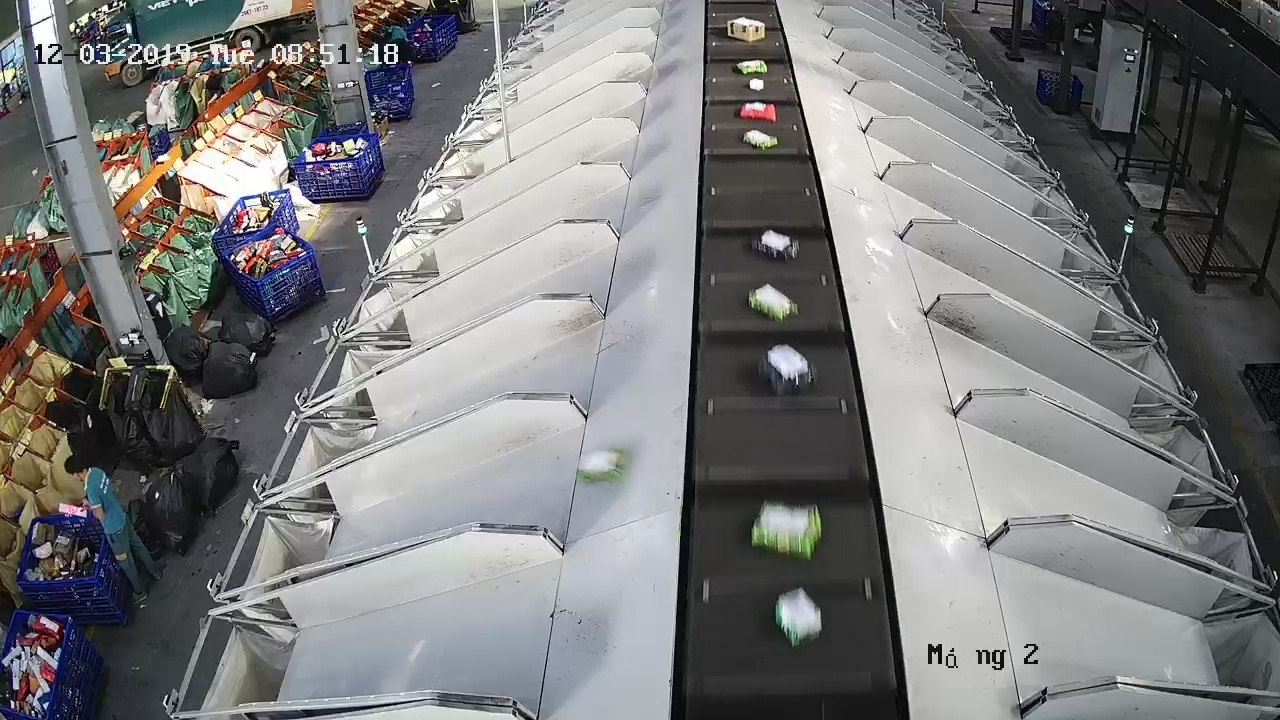parcel: (749, 498, 824, 562), (756, 341, 819, 399), (774, 585, 825, 650), (746, 281, 799, 324), (575, 447, 627, 486), (750, 225, 801, 264), (741, 127, 779, 151)
